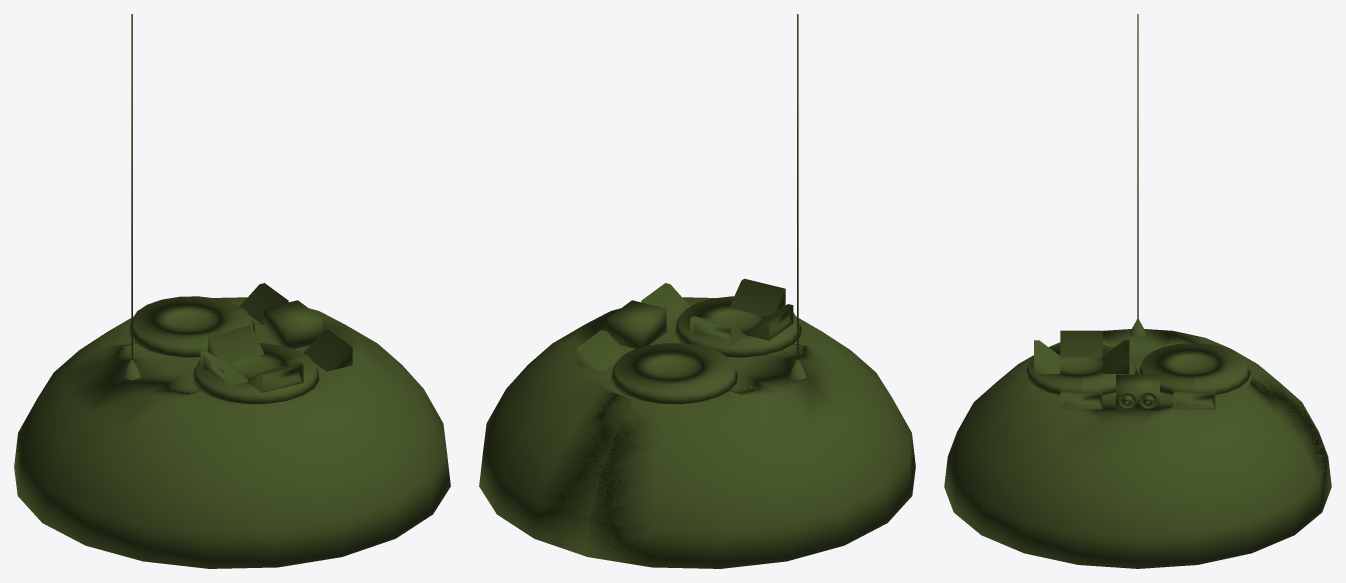
Rendered from capel.obj.
The picture shows the model from 3 angles, left to right: view 1: azimuth 30°, elevation 25°; view 2: azimuth 150°, elevation 25°; view 3: azimuth 270°, elevation 25°; orthographic projection. The views are drawn at different scales.
Parts seen in each view (by area): view 1: torony4_loveg_nelkul.001; view 2: torony4_loveg_nelkul.001; view 3: torony4_loveg_nelkul.001.
Boxes of the visible parts, x1,y1,x2,y2 form: torony4_loveg_nelkul.001: [14, 14, 450, 568]; torony4_loveg_nelkul.001: [479, 14, 915, 568]; torony4_loveg_nelkul.001: [944, 14, 1331, 568].
Size of the model in its own units: 2.2 by 2.8 by 2.2.
